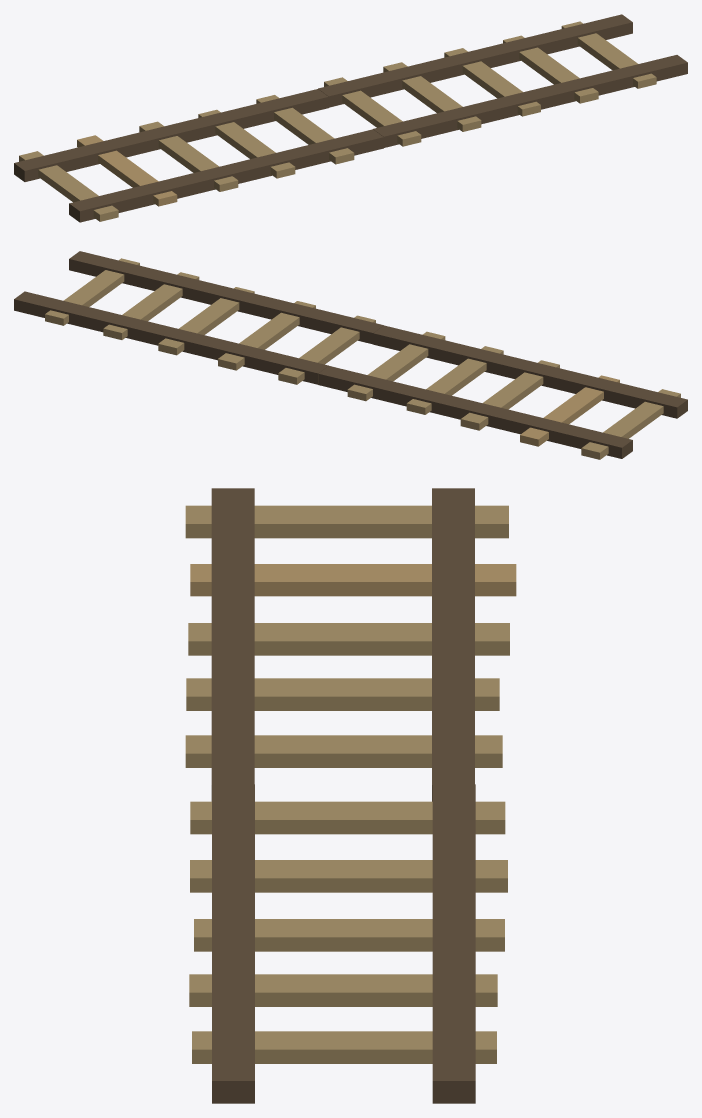
Rendered from railway.glb.
The picture shows the model from 3 angles, top to bottom: view 1: azimuth 30°, elevation 25°; view 2: azimuth 150°, elevation 25°; view 3: azimuth 270°, elevation 25°; orthographic projection. The views are drawn at different scales.
Visible parts, largest first — view 1: Cube.013, Cube.014, Cube.002, Cube.001, Cube.012, Cube.007, Cube.011, Cube.003, Cube.009, Cube.008, Cube.010, Cube.004 (+2 smaller); view 2: Cube.014, Cube.013, Cube.001, Cube.002, Cube.012, Cube.007, Cube.011, Cube.003, Cube.009, Cube.008, Cube.010, Cube.004 (+2 smaller); view 3: Cube.001, Cube.002, Cube.013, Cube.014, Cube.007, Cube.012, Cube.008, Cube.011, Cube.003, Cube.009, Cube.010, Cube.004 (+2 smaller).
Part boxes in pixels (bbox=[...]): Cube.013: bbox=[69, 129, 383, 222]; Cube.014: bbox=[14, 89, 328, 181]; Cube.002: bbox=[373, 55, 687, 147]; Cube.001: bbox=[318, 14, 632, 107]; Cube.012: bbox=[77, 135, 177, 206]; Cube.007: bbox=[19, 151, 118, 221]; Cube.011: bbox=[139, 121, 238, 191]; Cube.003: bbox=[383, 62, 481, 131]; Cube.009: bbox=[256, 95, 354, 164]; Cube.008: bbox=[324, 77, 421, 146]; Cube.010: bbox=[198, 109, 295, 178]; Cube.004: bbox=[444, 48, 540, 116]; Cube.014: bbox=[318, 366, 632, 458]; Cube.013: bbox=[373, 325, 687, 418]; Cube.001: bbox=[14, 291, 328, 384]; Cube.002: bbox=[69, 251, 383, 344]; Cube.012: bbox=[520, 375, 619, 446]; Cube.007: bbox=[581, 389, 680, 459]; Cube.011: bbox=[460, 360, 559, 430]; Cube.003: bbox=[218, 301, 315, 370]; Cube.009: bbox=[347, 331, 445, 401]; Cube.008: bbox=[278, 315, 375, 384]; Cube.010: bbox=[406, 346, 503, 414]; Cube.004: bbox=[158, 287, 254, 355]; Cube.001: bbox=[432, 784, 475, 1103]; Cube.002: bbox=[212, 784, 254, 1103]; Cube.013: bbox=[211, 488, 254, 801]; Cube.014: bbox=[432, 488, 474, 801]; Cube.007: bbox=[185, 505, 508, 538]; Cube.012: bbox=[190, 564, 516, 596]; Cube.008: bbox=[190, 801, 505, 834]; Cube.011: bbox=[188, 623, 509, 655]; Cube.003: bbox=[190, 860, 507, 892]; Cube.009: bbox=[185, 735, 502, 767]; Cube.010: bbox=[186, 678, 499, 710]; Cube.004: bbox=[194, 919, 504, 951].
Size of the model in its own units: 22.83 by 0.4173 by 5.38.
